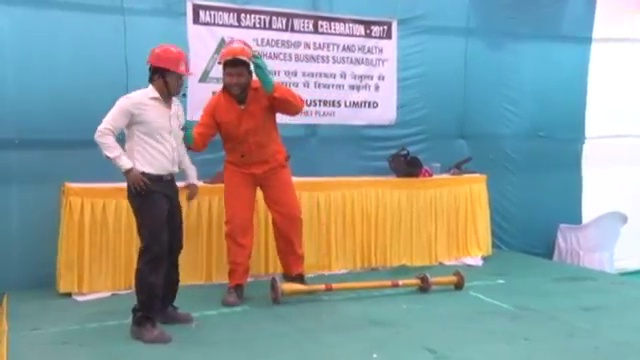helmet: (146, 43, 194, 79), (216, 38, 257, 65)
helmet_on: (144, 42, 195, 103), (213, 38, 257, 102)
person: (91, 41, 199, 348), (189, 39, 308, 301)
